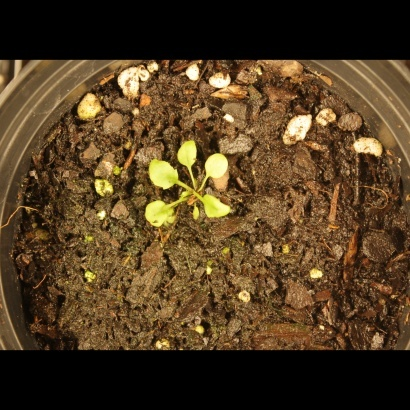leaf: (138, 198, 181, 236), (144, 153, 180, 193), (203, 148, 240, 183), (195, 191, 234, 223), (173, 136, 204, 170)
